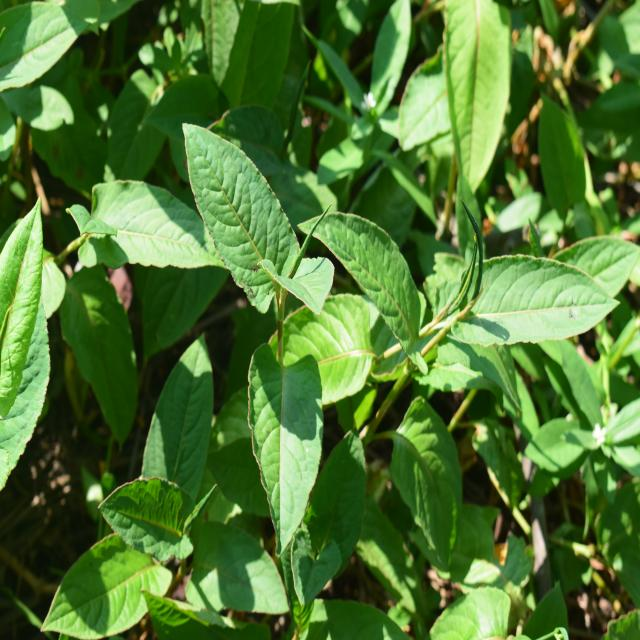Chinese_knotweed: (337, 196, 598, 542), (177, 110, 367, 536), (54, 395, 285, 622)
